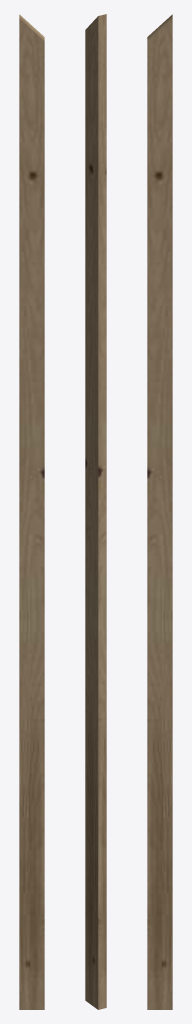
File: Joglo_part_49.fbx
3 renders of one model, left to right at view 1: azimuth 90°, elevation 25°; view 2: azimuth 210°, elevation 25°; view 3: azimuth 270°, elevation 25°, orthographic.
Visible parts, largest first — view 1: Mesh141_Wood___Pine_Grained_Horizontal_0.001; view 2: Mesh141_Wood___Pine_Grained_Horizontal_0.001; view 3: Mesh141_Wood___Pine_Grained_Horizontal_0.001.
Part boxes in pixels (x1,y1,x2,y2): Mesh141_Wood___Pine_Grained_Horizontal_0.001: (19, 14, 44, 1009); Mesh141_Wood___Pine_Grained_Horizontal_0.001: (85, 14, 106, 1009); Mesh141_Wood___Pine_Grained_Horizontal_0.001: (147, 14, 172, 1009).
Size of the model in its own units: 0.7507 by 84.13 by 1.97.
